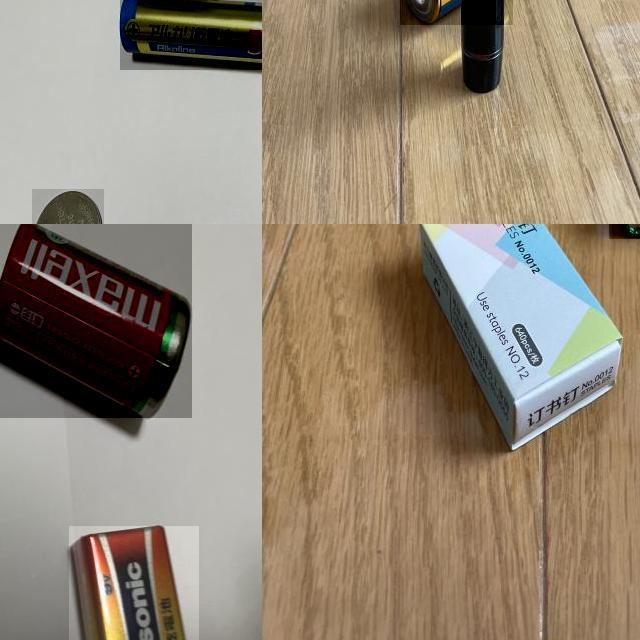9V: (69, 526, 199, 640)
